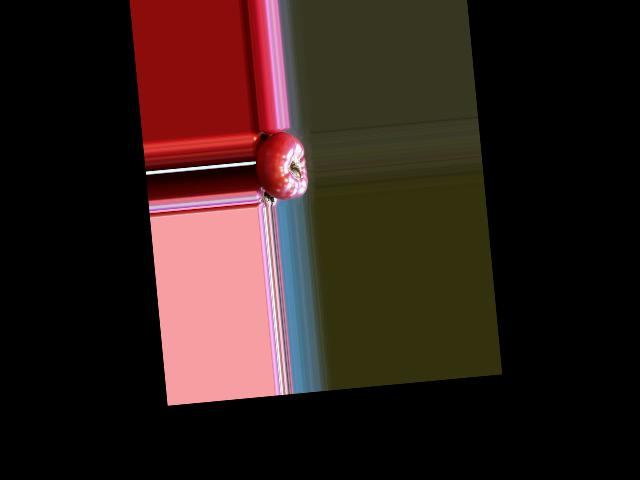tomato: (252, 129, 309, 202)
